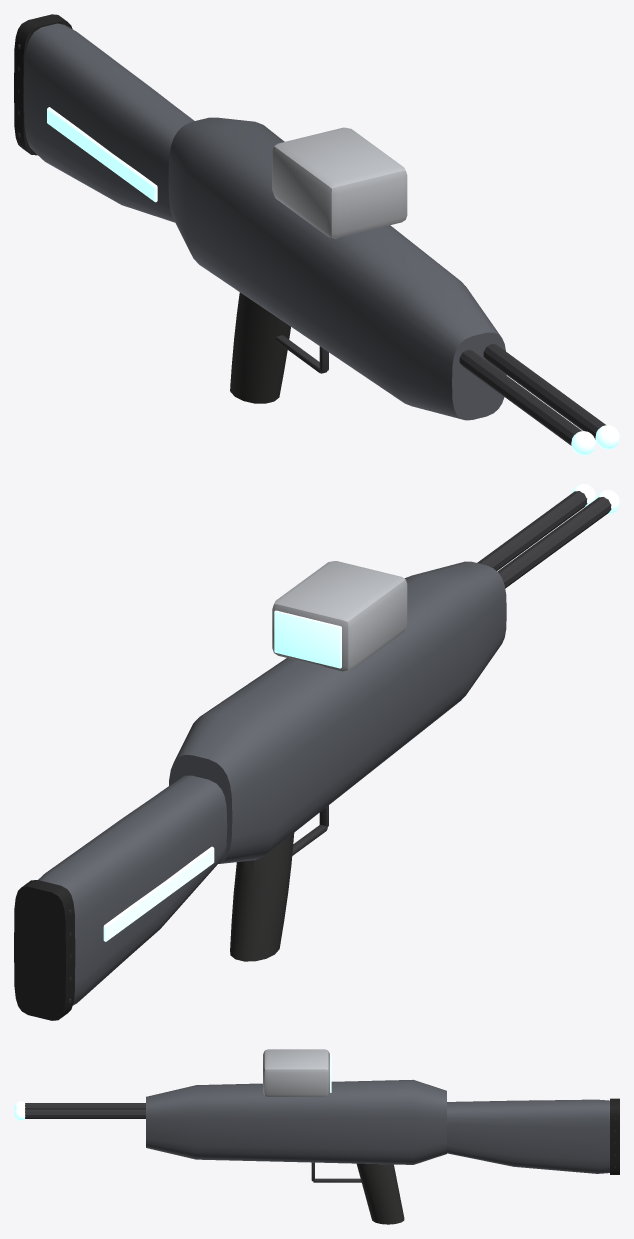
Rendered from fenrir.glb.
The picture shows the model from 3 angles, top to bottom: view 1: azimuth 30°, elevation 25°; view 2: azimuth 150°, elevation 25°; view 3: azimuth 270°, elevation 25°; orthographic projection. The views are drawn at different scales.
Parts seen in each view (by area): view 1: Body; view 2: Body; view 3: Body.
Part boxes in pixels (x1=…): Body: x1=14, y1=14, x2=619, y2=455; Body: x1=14, y1=484, x2=619, y2=1020; Body: x1=14, y1=1049, x2=619, y2=1224.
Size of the model in its own units: 0.068 by 0.2129 by 0.725.
